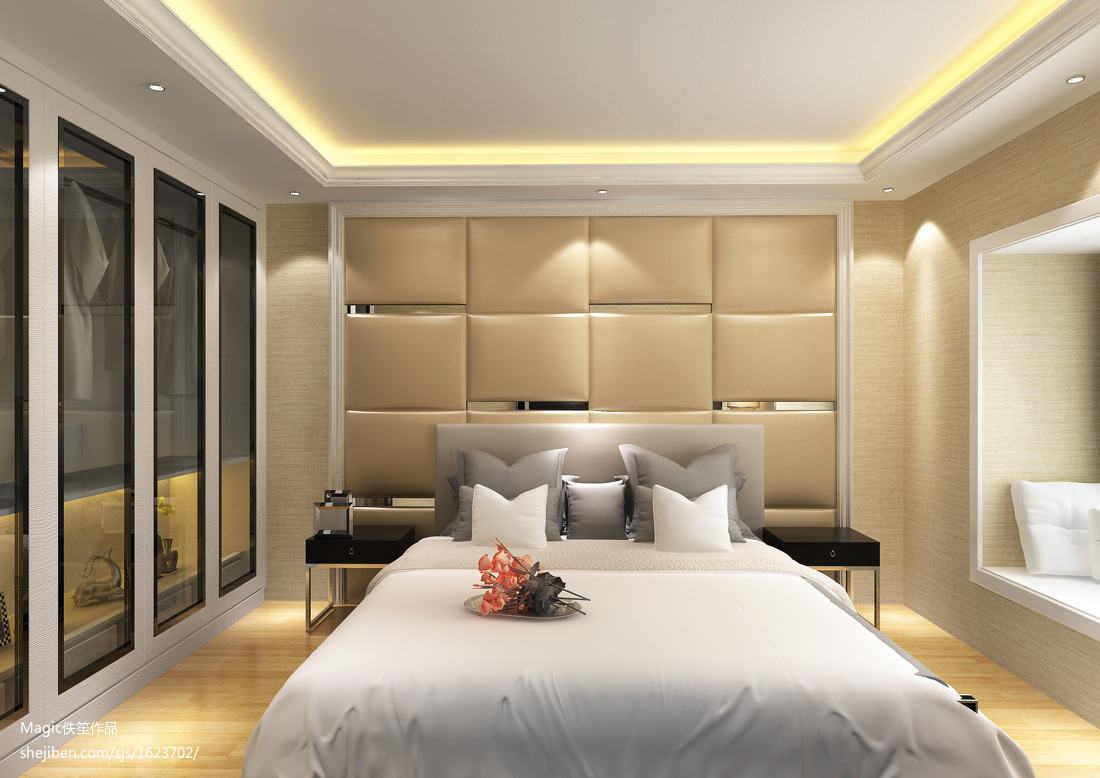床: (268, 546, 1010, 778)
枕头: (479, 451, 746, 550), (1022, 483, 1100, 578)
灯: (137, 81, 166, 99), (1063, 72, 1087, 91), (873, 184, 899, 201), (592, 187, 619, 203), (281, 189, 304, 201)
